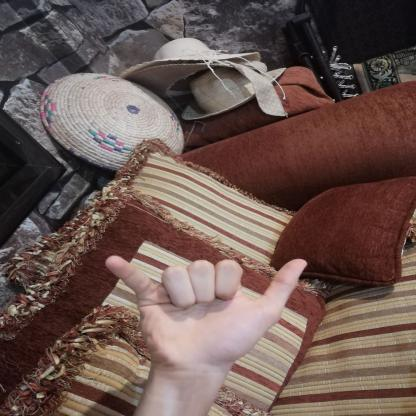YA: (88, 240, 327, 380)
